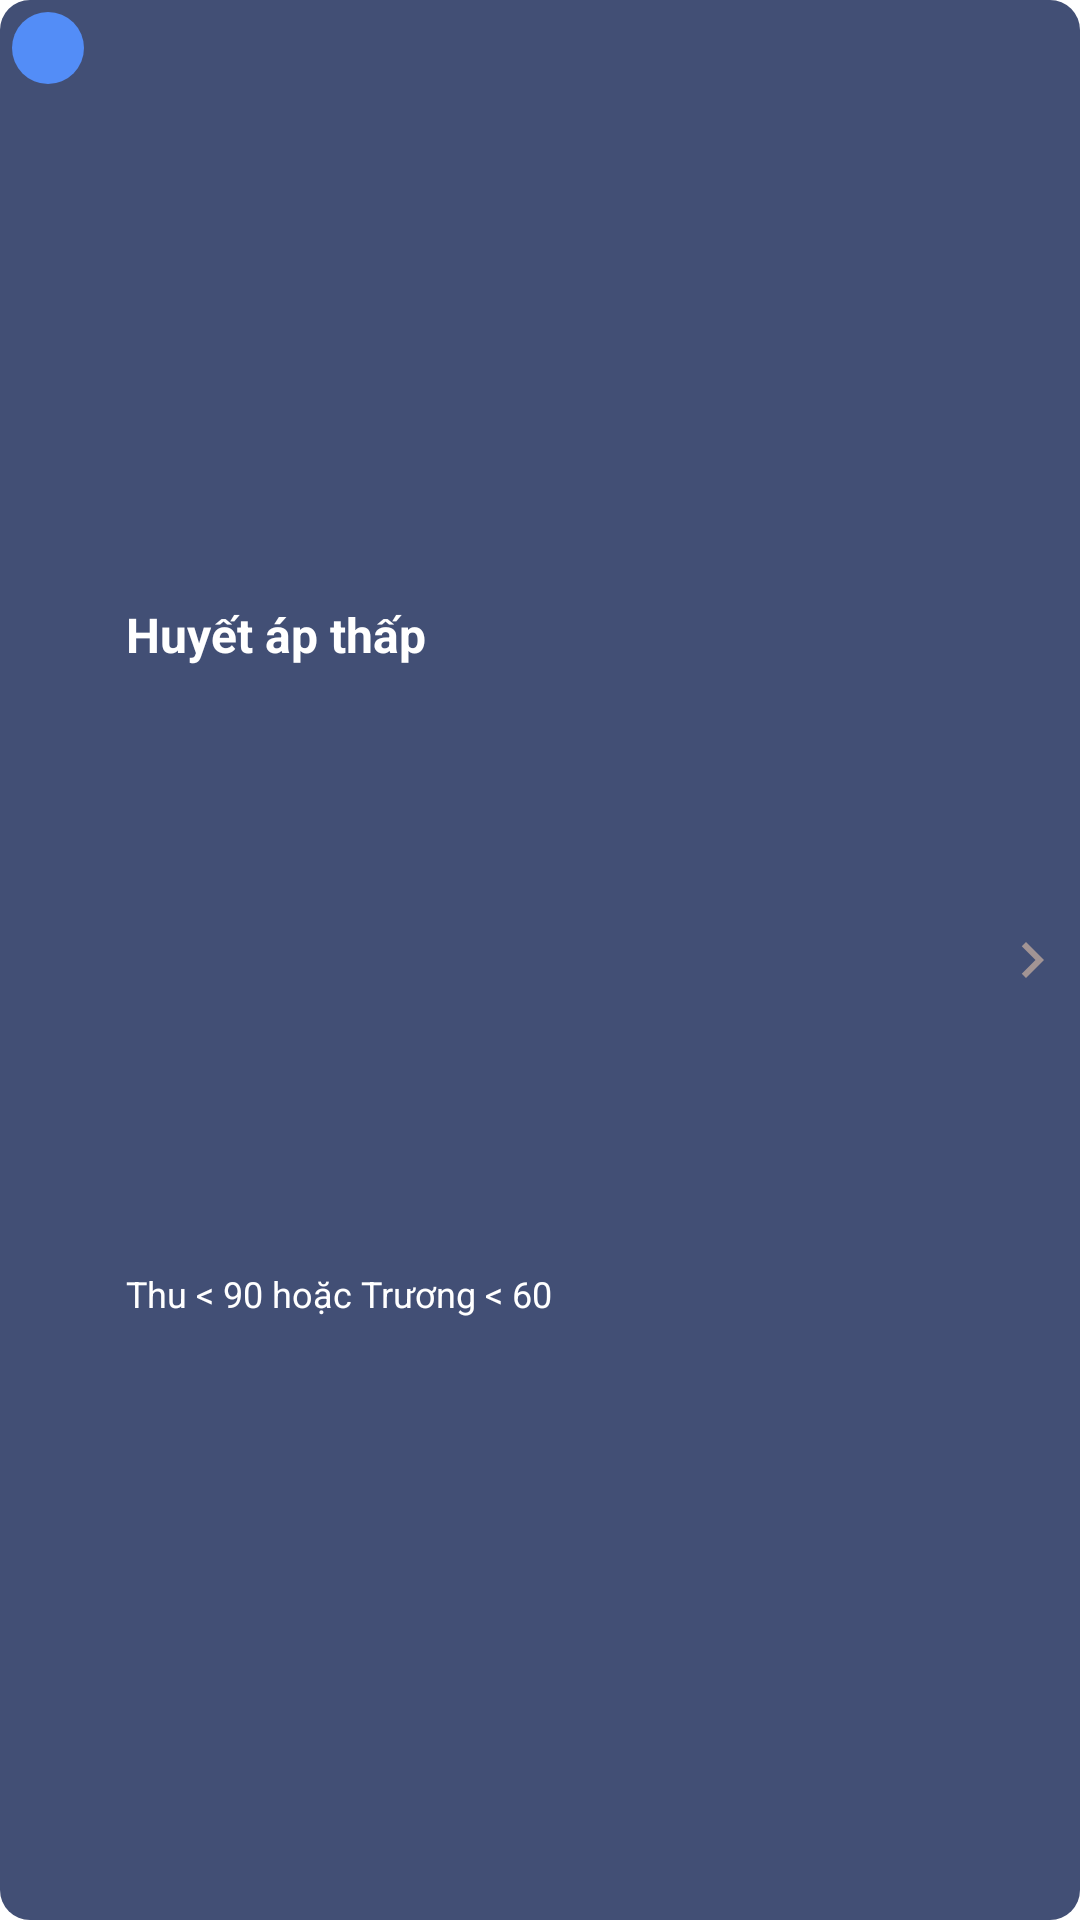

Icons on this 1080w x 1920h Android screen, each with the point to tap as (x=x, y=y):
next: (x=1033, y=960)
